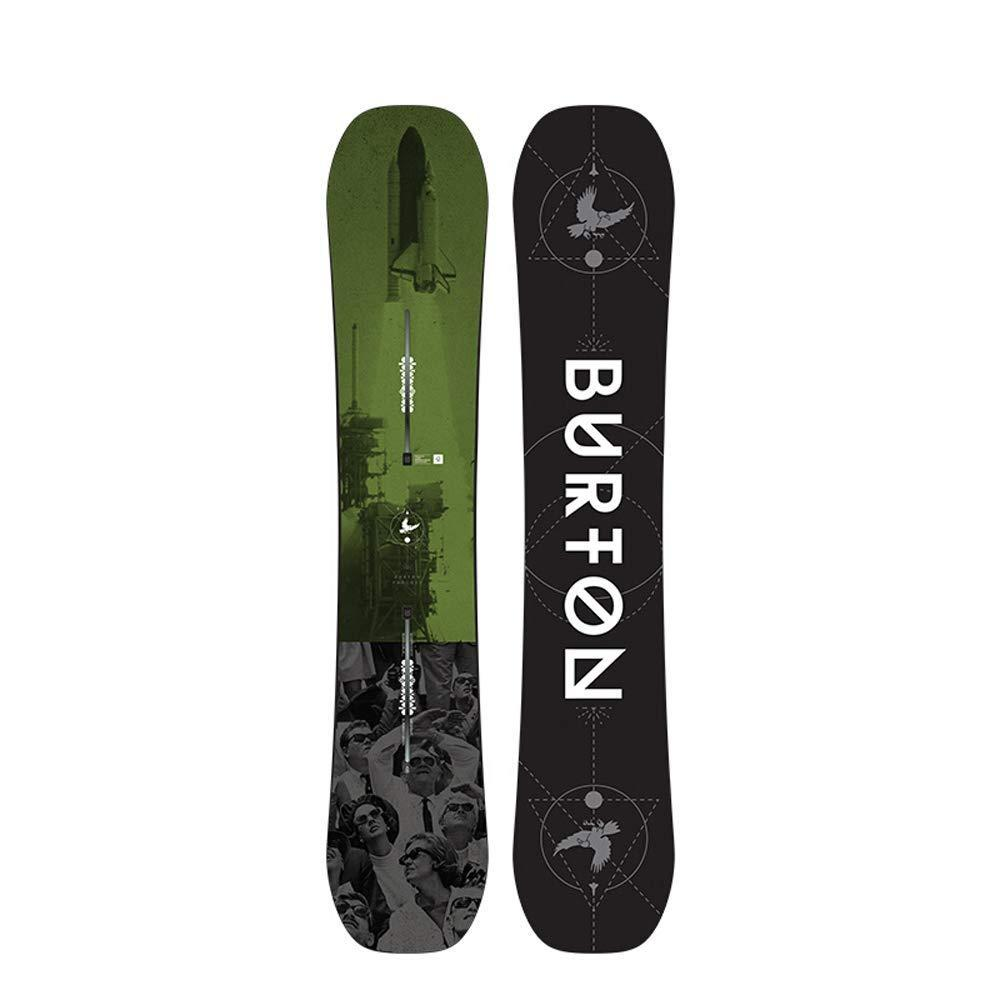Skis: (281, 58, 729, 1000)
